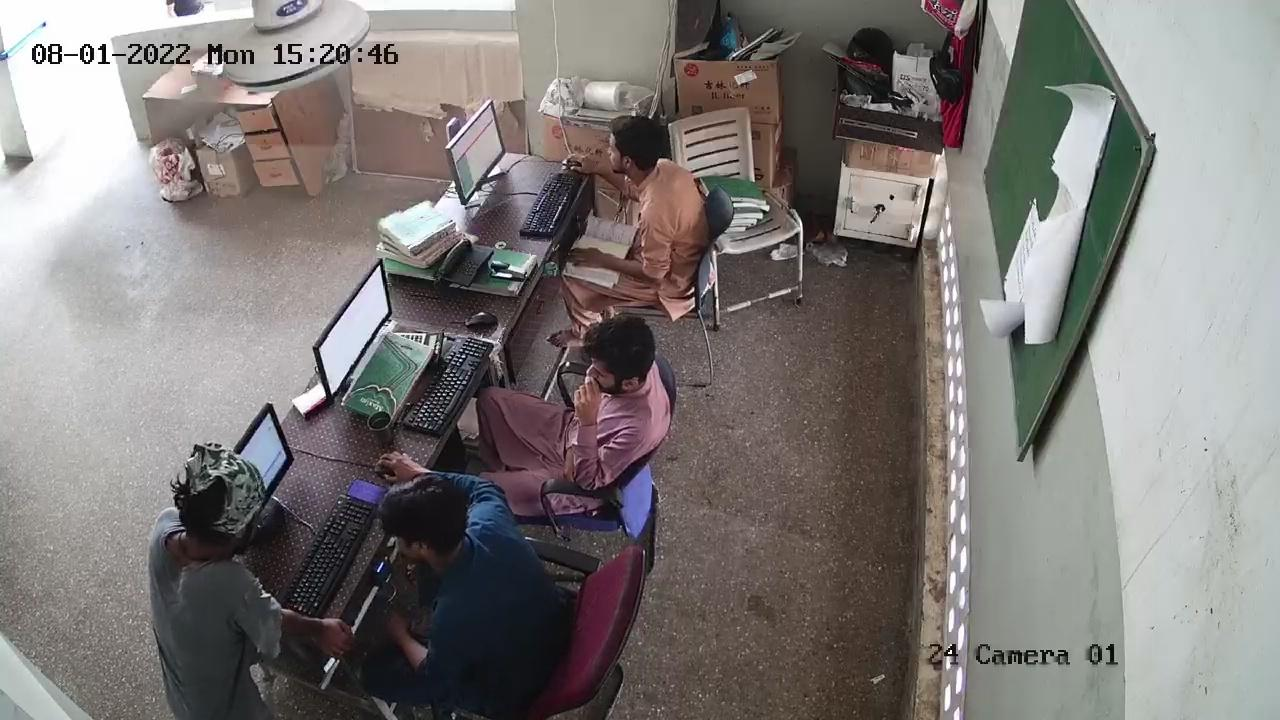person: (381, 452, 560, 680), (160, 438, 266, 718), (494, 317, 656, 498), (569, 125, 694, 300)
